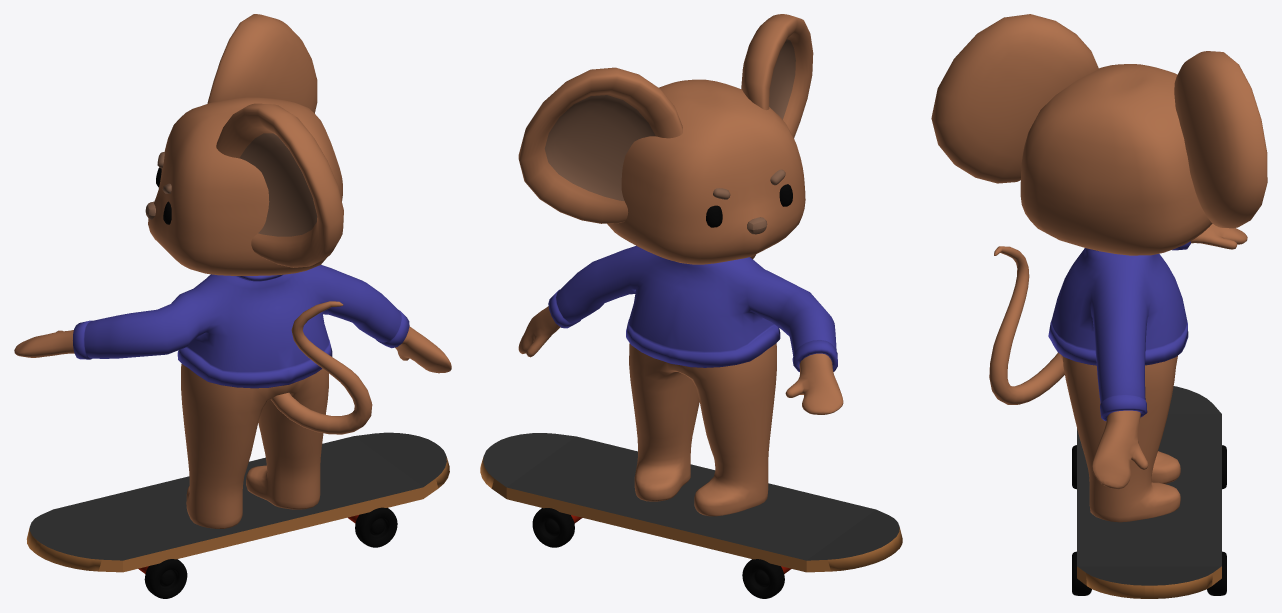
File: snackman_blue.glb
3 renders of one model, left to right at view 1: azimuth 30°, elevation 25°; view 2: azimuth 150°, elevation 25°; view 3: azimuth 270°, elevation 25°, orthographic. The views are drawn at different scales.
Visible parts, largest first — view 1: nose, skateboard_bord.002, skateboard_wheels.002; view 2: nose, skateboard_bord.002, skateboard_wheels.002; view 3: nose, skateboard_bord.002, skateboard_wheels.002.
Part boxes in pixels (<box>): nose: <box>14,14,451,528</box>; skateboard_bord.002: <box>26,432,449,572</box>; skateboard_wheels.002: <box>144,507,397,598</box>; nose: <box>518,14,843,516</box>; skateboard_bord.002: <box>480,433,902,572</box>; skateboard_wheels.002: <box>532,508,784,598</box>; nose: <box>931,14,1267,522</box>; skateboard_bord.002: <box>1077,386,1221,598</box>; skateboard_wheels.002: <box>1072,445,1226,595</box>.
Size of the model in its own units: 6.69 by 7.75 by 4.63.
